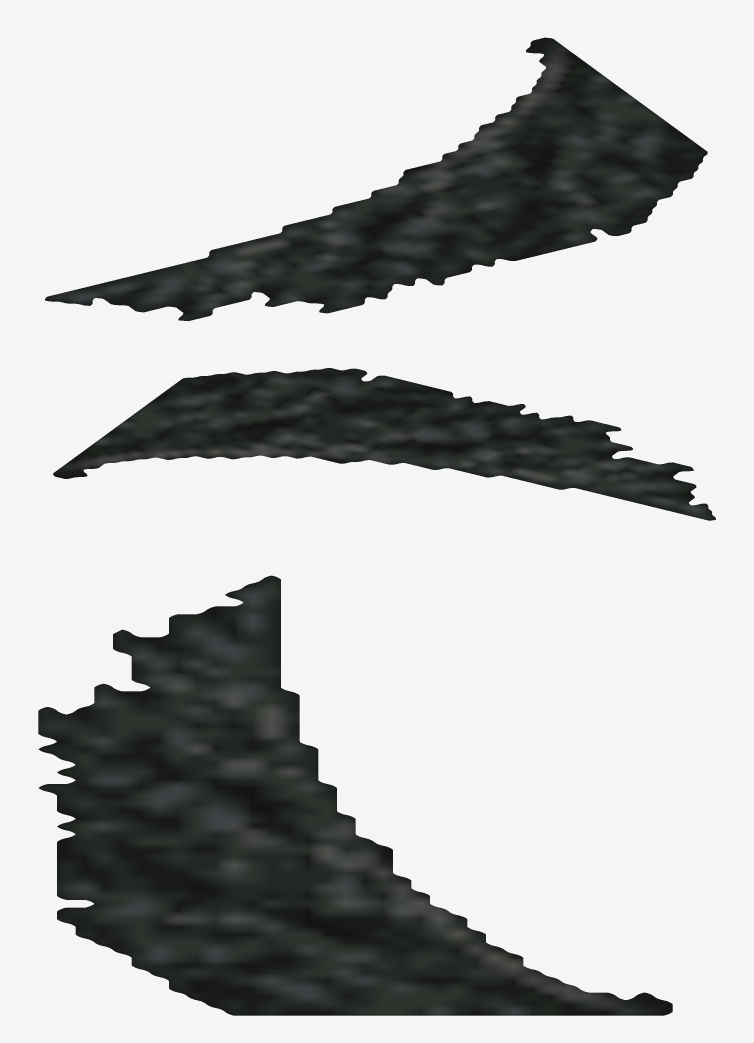
File: SM_EC_Tree_Part_Card_03.fbx
3 renders of one model, top to bottom at view 1: azimuth 30°, elevation 25°; view 2: azimuth 150°, elevation 25°; view 3: azimuth 270°, elevation 25°, orthographic. The views are drawn at different scales.
Visible parts, largest first — view 1: SM_EC_Tree_Part_Card_03; view 2: SM_EC_Tree_Part_Card_03; view 3: SM_EC_Tree_Part_Card_03.
Boxes of the visible parts, x1=… form: SM_EC_Tree_Part_Card_03: x1=45, y1=37, x2=707, y2=321; SM_EC_Tree_Part_Card_03: x1=53, y1=368, x2=715, y2=520; SM_EC_Tree_Part_Card_03: x1=38, y1=575, x2=672, y2=1015.
Size of the model in its own units: 0.9379 by 0.6081 by 3.39e-10.
